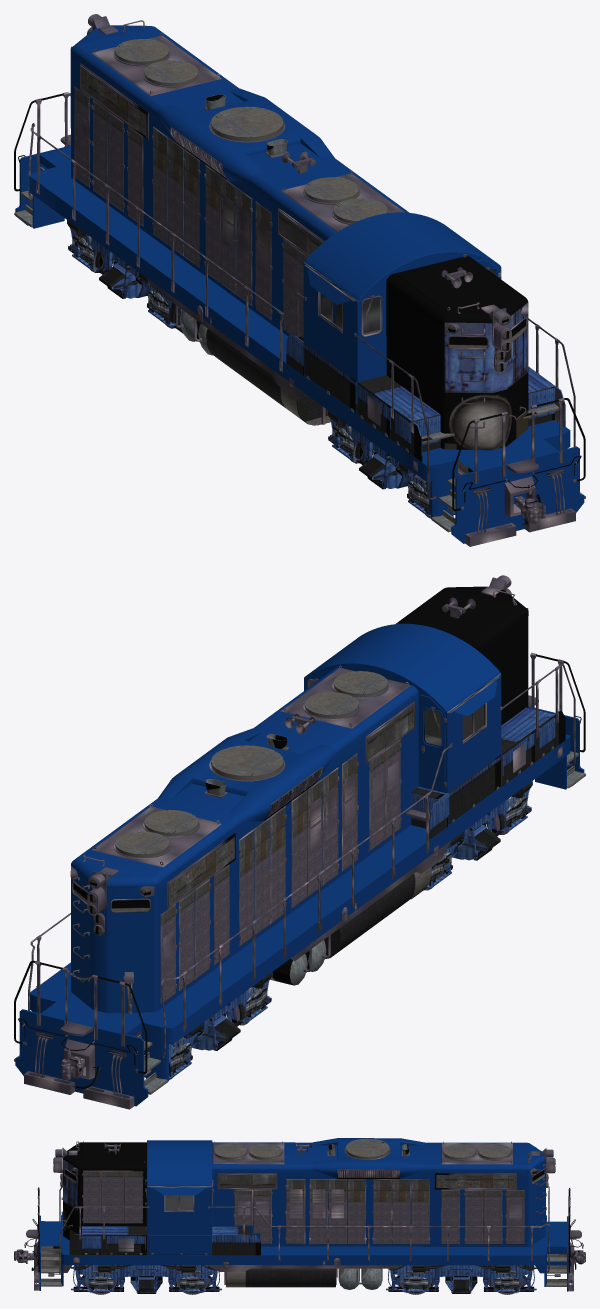
File: Train.FBX
3 renders of one model, top to bottom at view 1: azimuth 30°, elevation 25°; view 2: azimuth 150°, elevation 25°; view 3: azimuth 270°, elevation 25°, orthographic. The views are drawn at different scales.
Parts seen in each view (by area): view 1: Body; view 2: Body; view 3: Body.
Part boxes in pixels (box(x1,y1,x2,y2)): Body: box(14, 14, 585, 546); Body: box(14, 575, 585, 1109); Body: box(14, 1138, 585, 1293).
Size of the model in its own units: 109 by 152 by 567.
